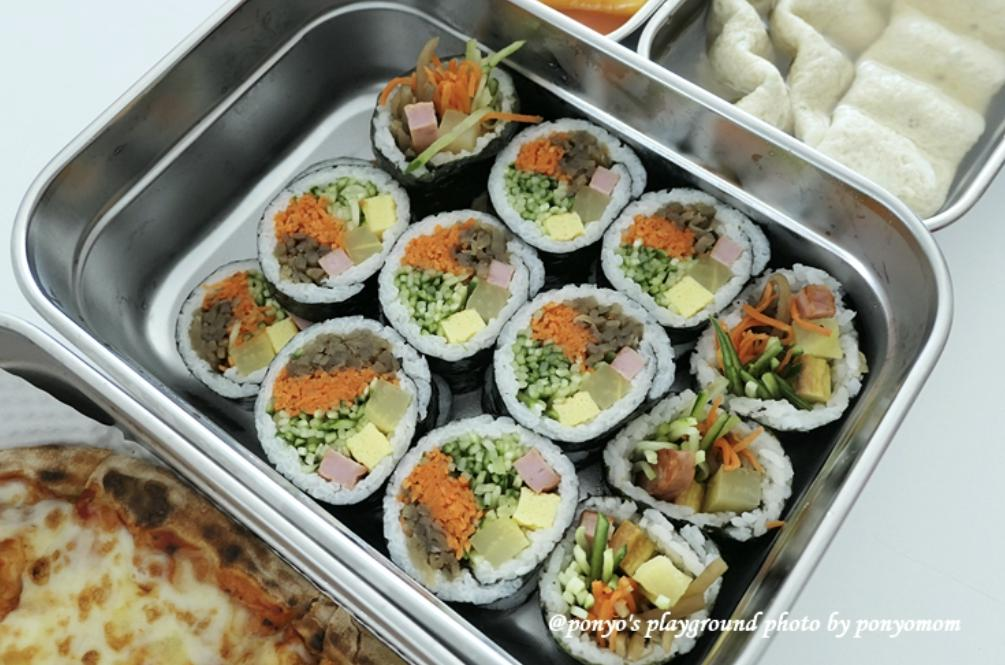Lunch Box: (14, 0, 951, 664), (0, 315, 459, 664), (638, 0, 1004, 229), (538, 0, 668, 40)
